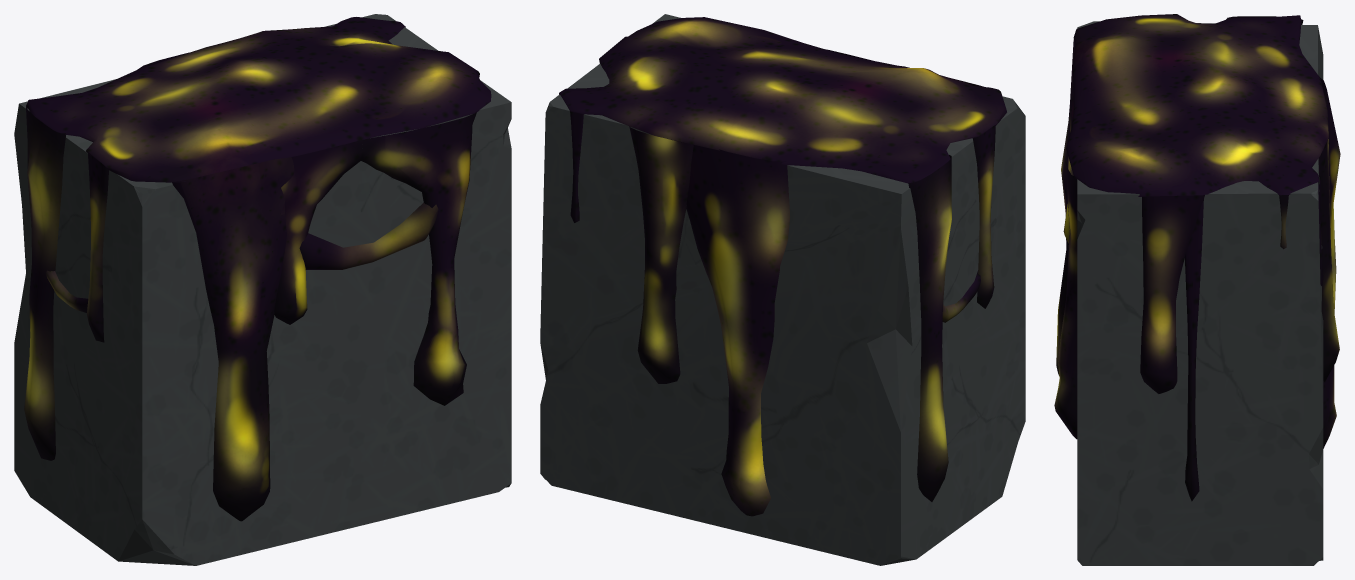
Rendered from blackbox.fbx.
The picture shows the model from 3 angles, left to right: view 1: azimuth 30°, elevation 25°; view 2: azimuth 150°, elevation 25°; view 3: azimuth 270°, elevation 25°; orthographic projection. The views are drawn at different scales.
Visible parts, largest first — view 1: box, up, pCylinder1, pCylinder15, pCylinder4, pCylinder7, pCylinder6, pCylinder12; view 2: box, up, pCylinder8, pCylinder11, pCylinder4, pCylinder6, pCylinder13; view 3: box, up, pCylinder2, pCylinder15, pCylinder10, pCylinder11, pCylinder8, pCylinder1.
Part boxes in pixels (x1,y1,x2,y2): box: (14,14,511,565); up: (26,17,491,182); pCylinder1: (172,157,294,521); pCylinder15: (274,111,476,405); pCylinder4: (24,103,65,460); pCylinder7: (299,202,438,269); pCylinder6: (86,153,108,342); pCylinder12: (45,270,88,312); box: (540,14,1025,565); up: (559,17,1006,183); pCylinder8: (671,139,790,516); pCylinder11: (629,126,693,383); pCylinder4: (908,155,951,501); pCylinder6: (972,125,995,308); pCylinder13: (570,111,583,222); box: (1077,21,1323,565); up: (1066,14,1328,196); pCylinder2: (1140,195,1204,393); pCylinder15: (1054,85,1077,439); pCylinder10: (1185,199,1203,501); pCylinder11: (1319,139,1339,381); pCylinder8: (1318,77,1340,448); pCylinder1: (1056,34,1075,375).
Bounding box in the file's own units: 162 × 161 × 105.
